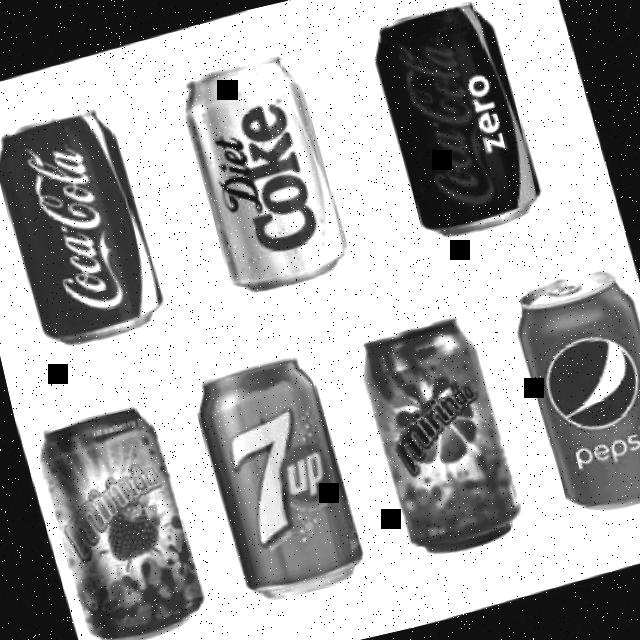can: (178, 335, 384, 623), (339, 296, 543, 575), (165, 32, 366, 315), (351, 0, 560, 256), (23, 380, 224, 640), (0, 85, 185, 365), (495, 247, 640, 531)
